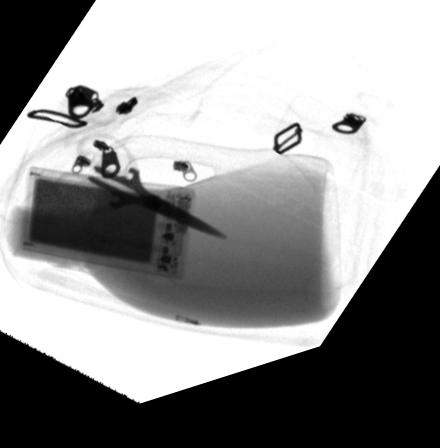Powerbank: (7, 165, 197, 290)
Scissors: (46, 135, 232, 260)
